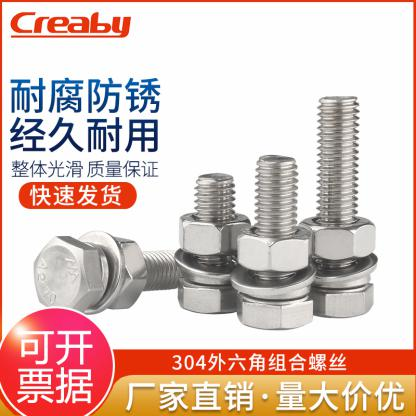FOD: (296, 93, 378, 320), (230, 150, 318, 336), (33, 228, 179, 315), (173, 169, 244, 315)
